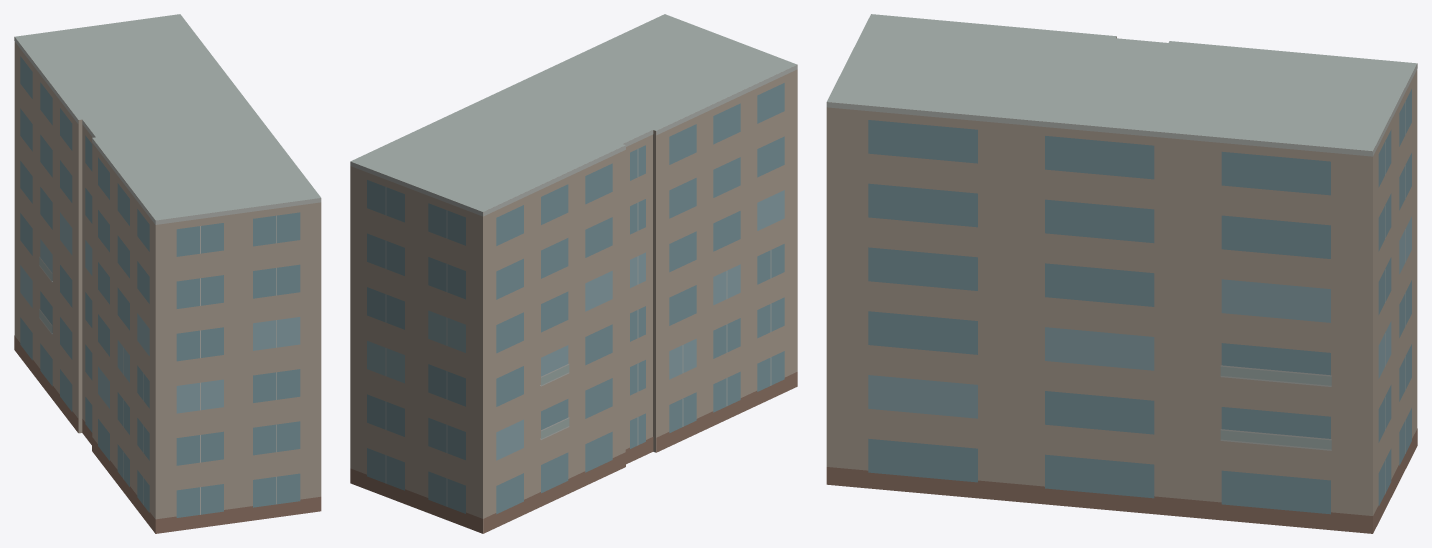
The model's file is survey-upis-32667461.glb.
The picture shows the model from 3 angles, left to right: view 1: azimuth 30°, elevation 25°; view 2: azimuth 150°, elevation 25°; view 3: azimuth 270°, elevation 25°; orthographic projection. The views are drawn at different scales.
Visible parts, largest first — view 1: survey-upis-32667461.tmp; view 2: survey-upis-32667461.tmp; view 3: survey-upis-32667461.tmp.
Part boxes in pixels (bbox=[...]): survey-upis-32667461.tmp: bbox=[14, 14, 321, 533]; survey-upis-32667461.tmp: bbox=[350, 14, 797, 533]; survey-upis-32667461.tmp: bbox=[826, 14, 1417, 533].
Bounding box in the file's own units: 13.31 × 17.3 × 24.22.
